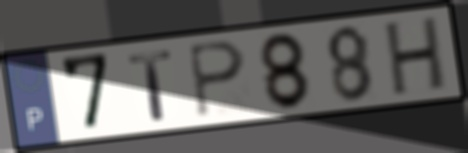7: (57, 52, 112, 135)
8: (257, 30, 314, 112), (325, 23, 378, 105)
H: (383, 13, 448, 100)
P: (185, 39, 249, 121)
T: (125, 47, 177, 124)
